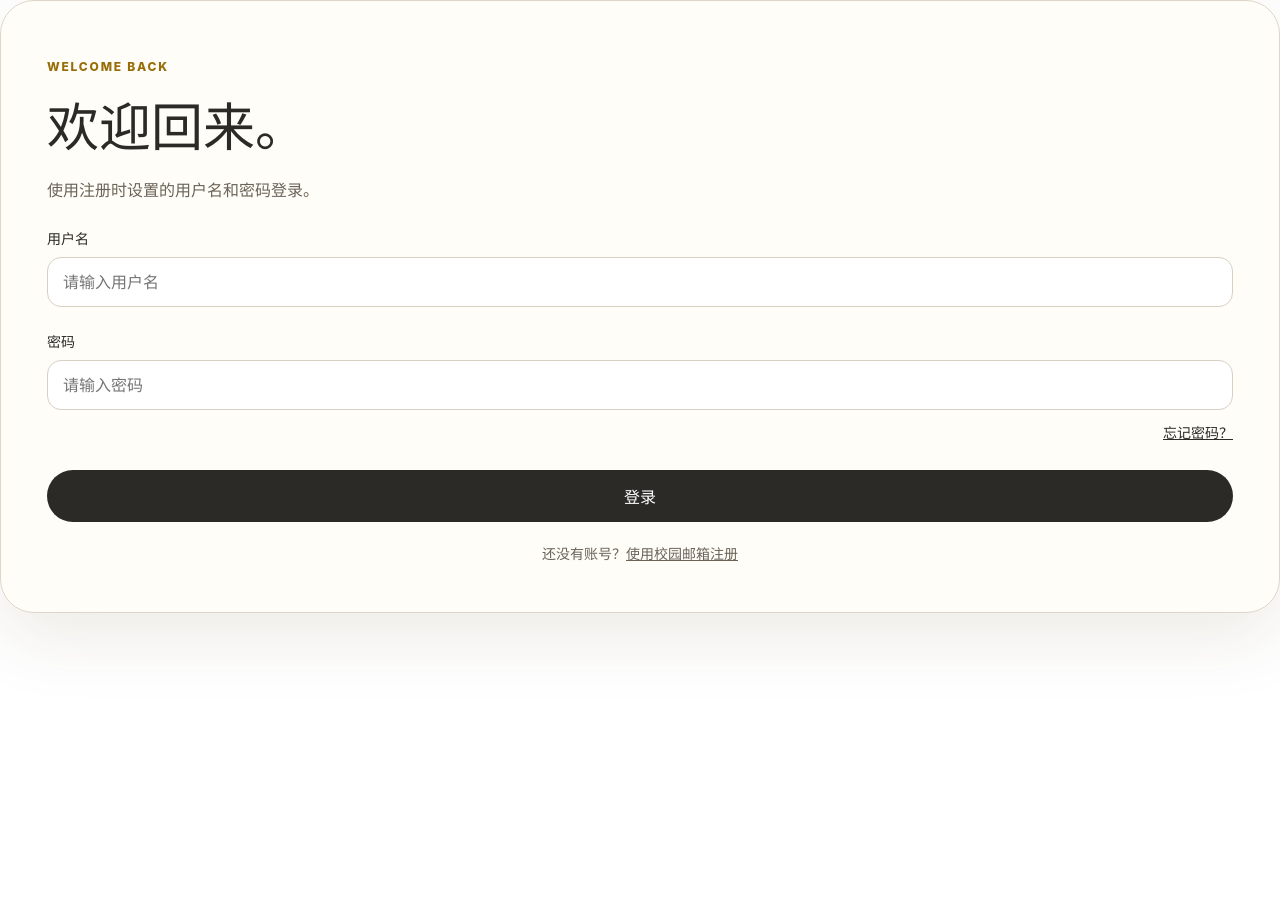
Test: login form › shows a server error and clears the password after failure
The image size is (1280, 900).
In the field labelled "用户名": (640, 282) [47, 257, 1233, 307], type "ginkgo_user"
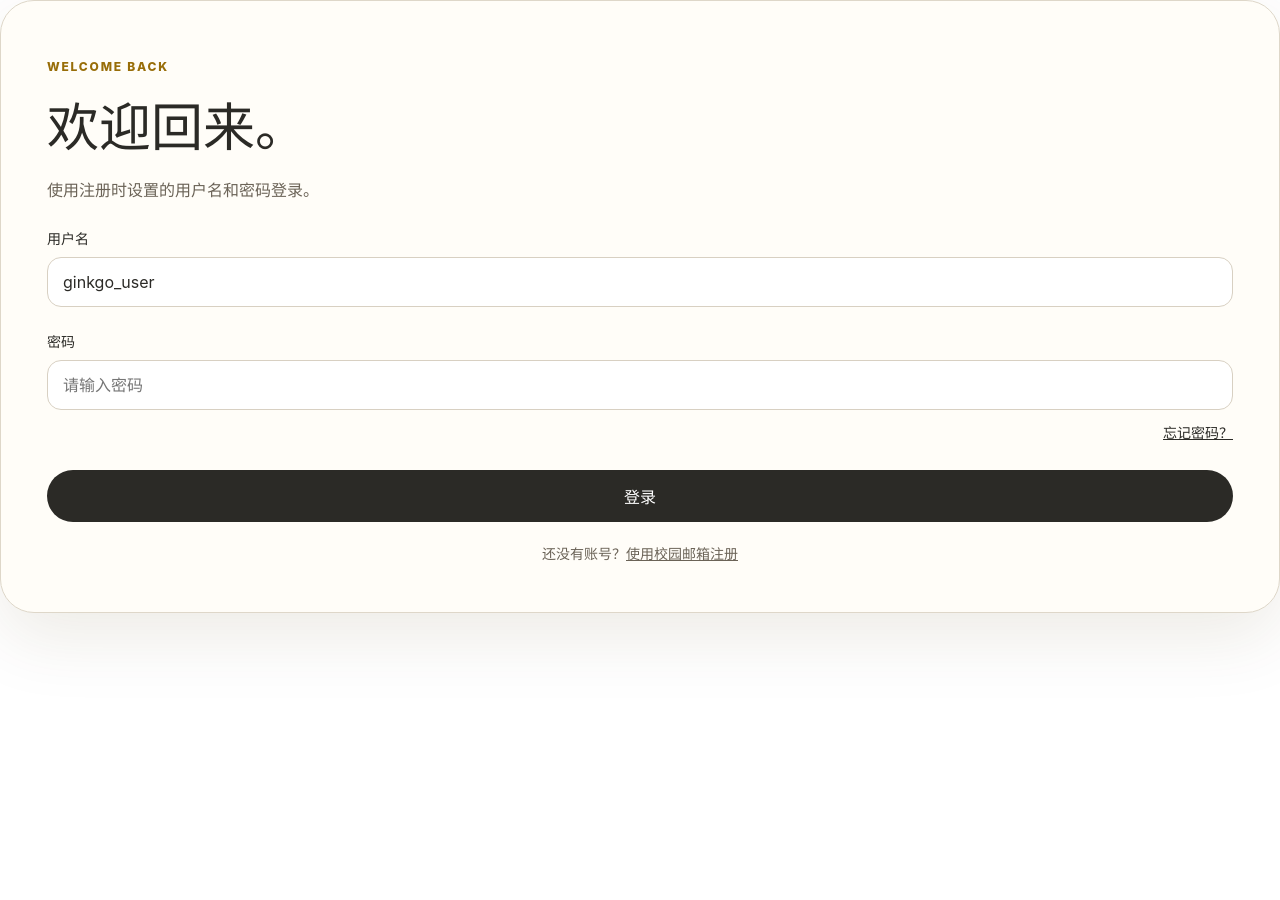
In the password field with id "login-password": (640, 385) [47, 360, 1233, 410], type "wrong-password"
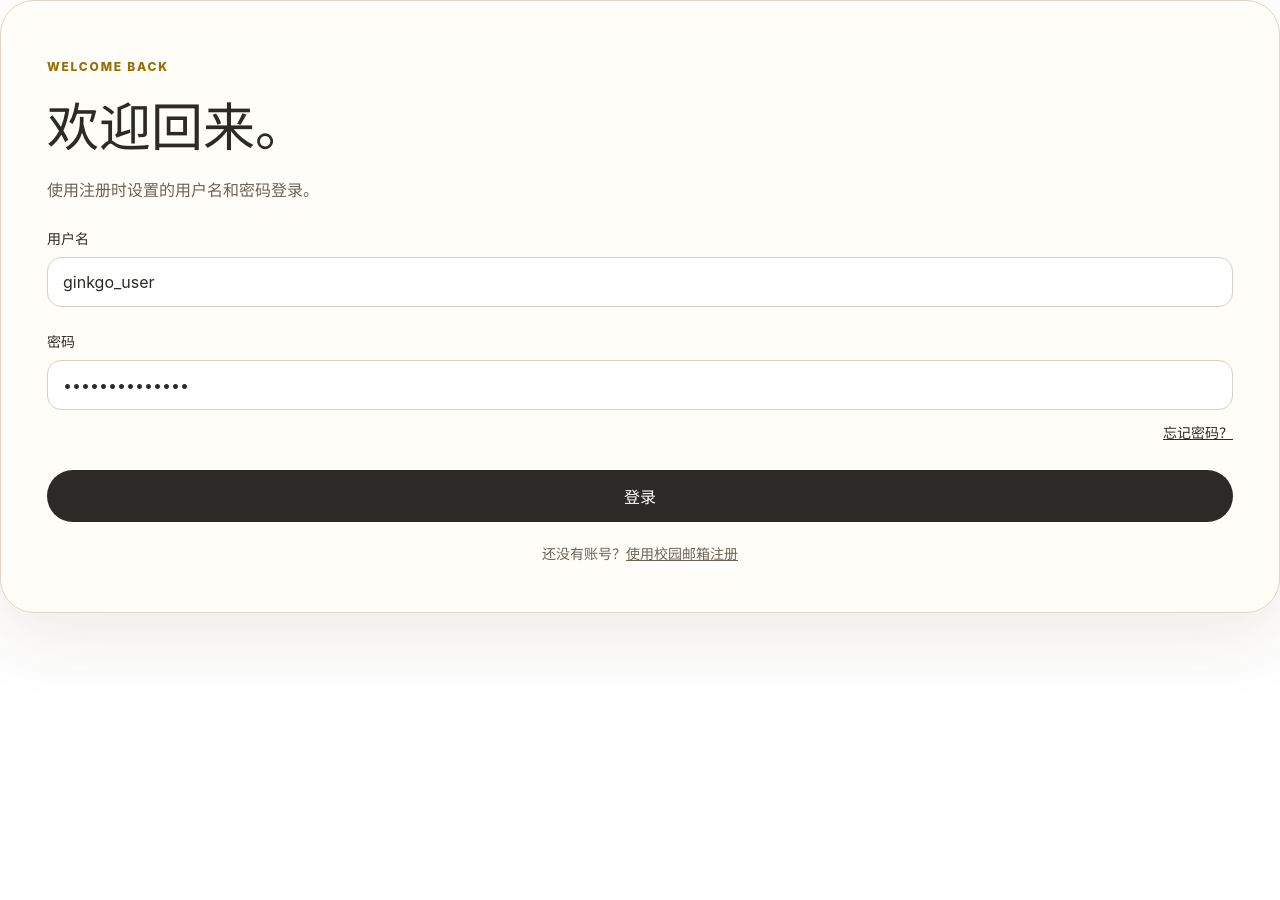
Submit the form
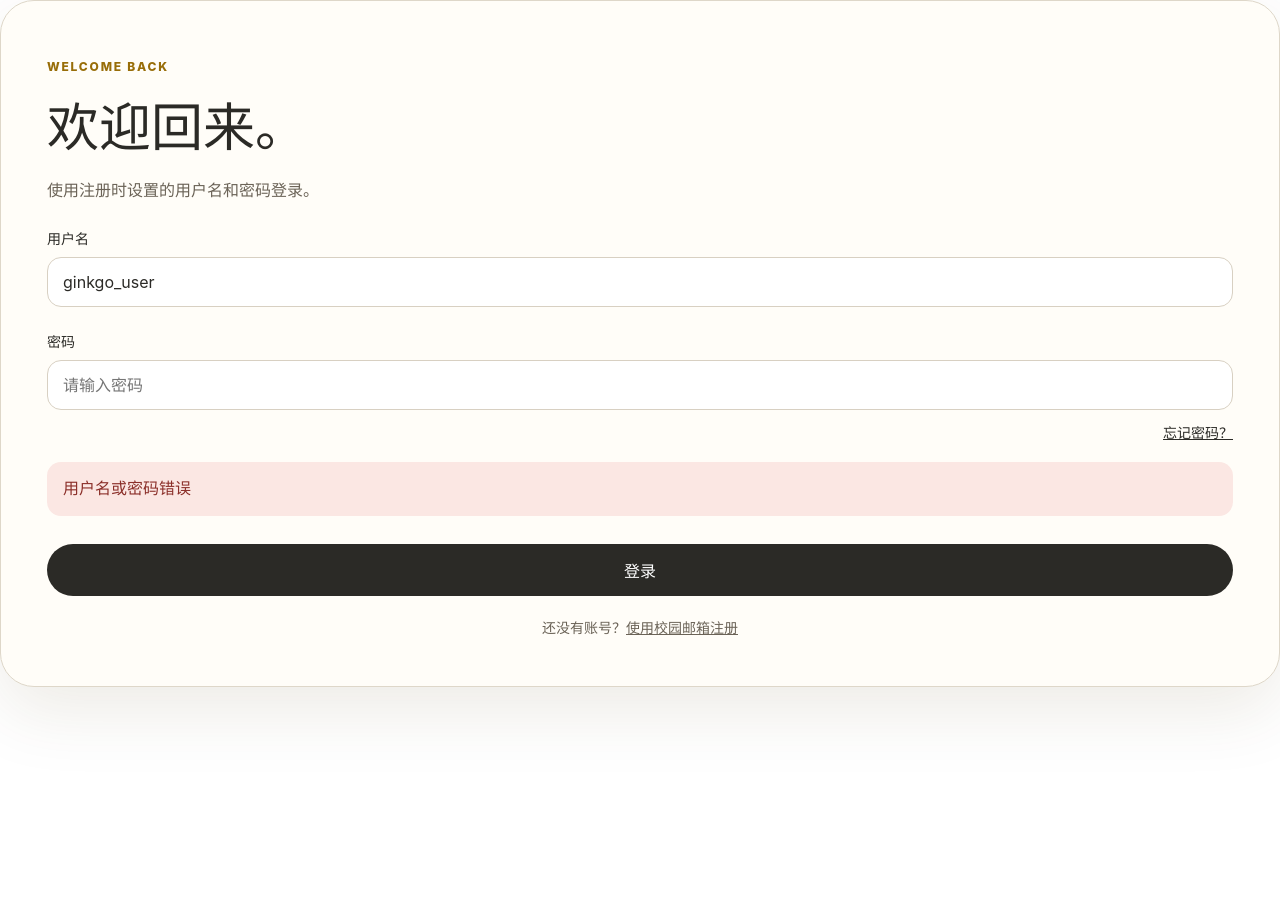
Now the message "用户名或密码错误" is shown, box [47, 462, 1233, 516]
Now the password field with id "login-password" is empty, box [47, 360, 1233, 410]
